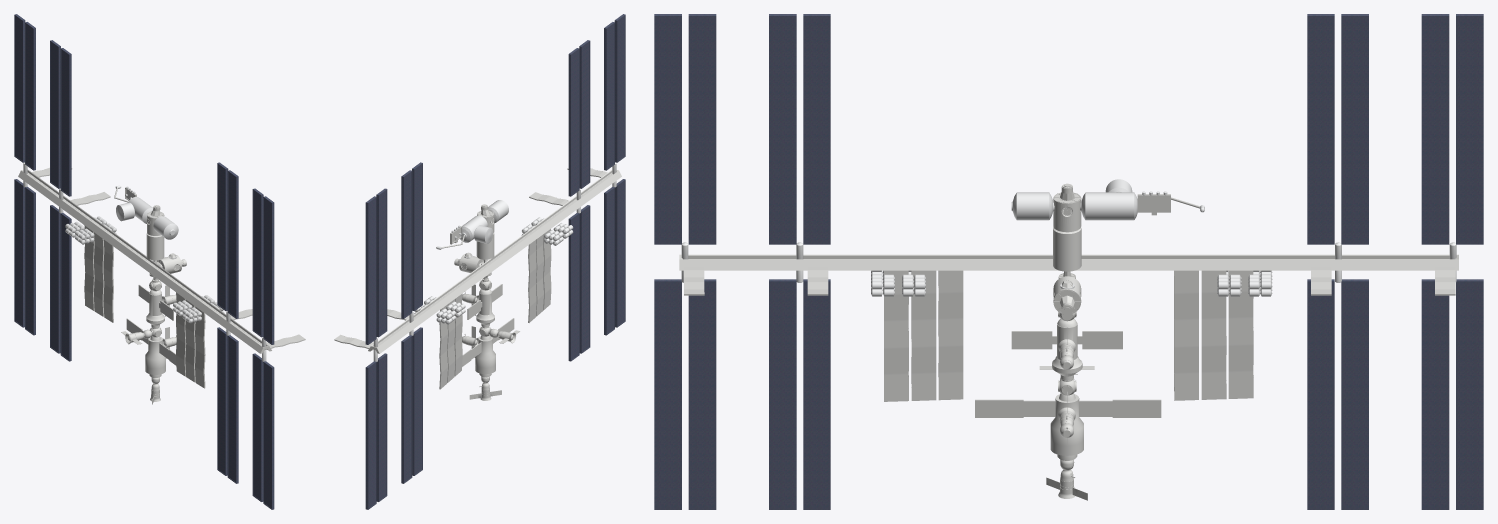
The model's file is iss.glb.
The picture shows the model from 3 angles, left to right: view 1: azimuth 30°, elevation 25°; view 2: azimuth 150°, elevation 25°; view 3: azimuth 270°, elevation 25°; orthographic projection. The views are drawn at different scales.
Visible parts, largest first — view 1: polySurfa2, polySurfa1; view 2: polySurfa2, polySurfa1; view 3: polySurfa2, polySurfa1.
Boxes of the visible parts, x1=… form: polySurfa2: x1=14, y1=14, x2=274, y2=509; polySurfa1: x1=18, y1=162, x2=305, y2=404; polySurfa2: x1=365, y1=14, x2=625, y2=509; polySurfa1: x1=334, y1=162, x2=621, y2=400; polySurfa2: x1=654, y1=14, x2=1483, y2=509; polySurfa1: x1=679, y1=179, x2=1458, y2=500.
Size of the model in its own units: 14.64 by 71.66 by 109.
3 materials, 1 textured.
